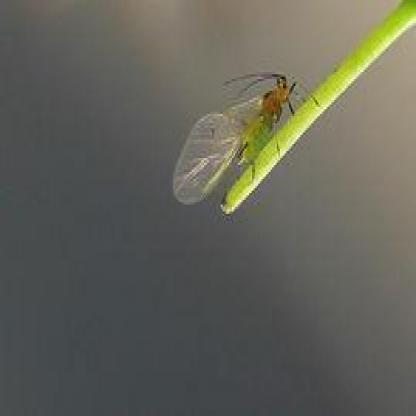aphid: (166, 53, 312, 214)
